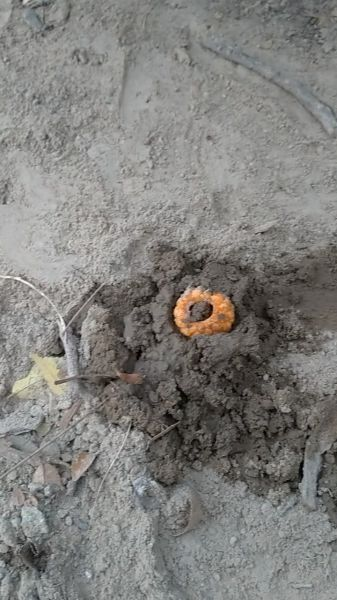eggs: (168, 283, 240, 340)
